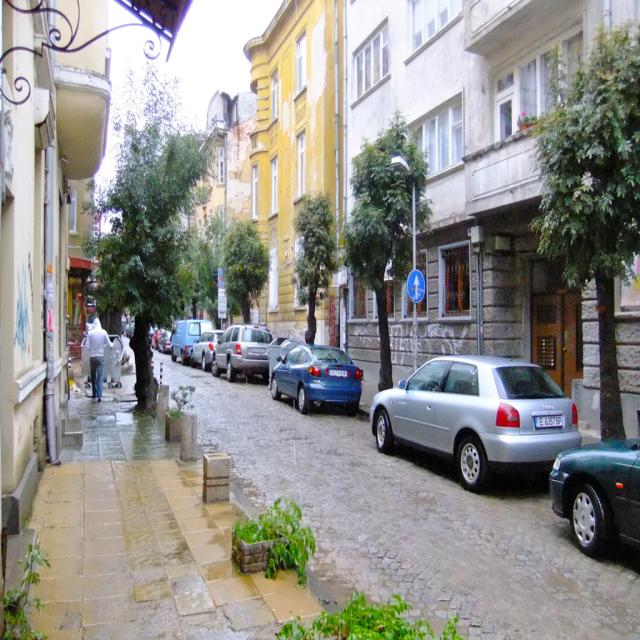car: (270, 341, 365, 411)
